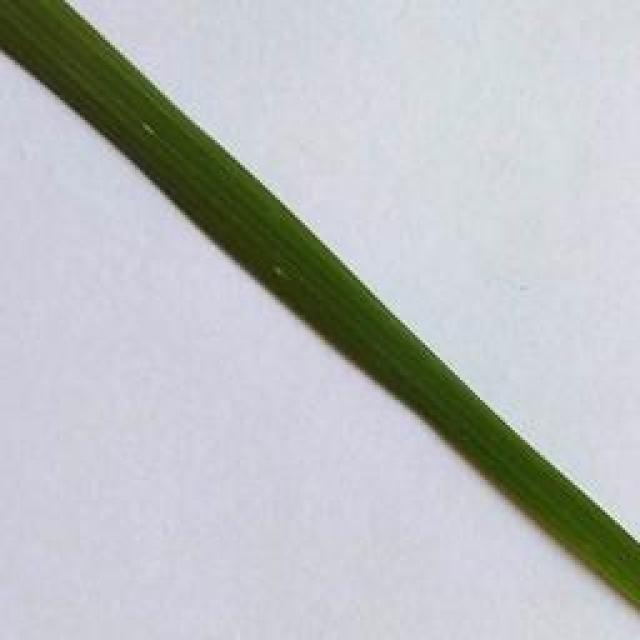Rice_Blast: (141, 114, 157, 147), (270, 262, 292, 284)
